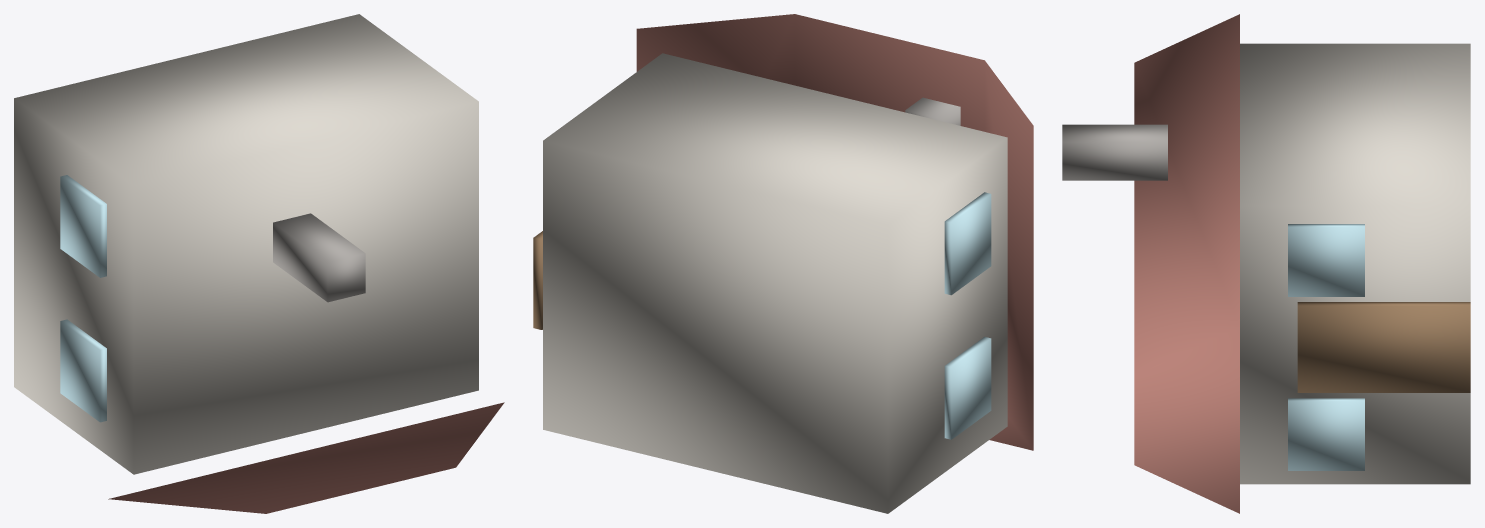
The model's file is house.glb.
3 views of the same model, side by side, from view 1: azimuth 30°, elevation 25°; view 2: azimuth 150°, elevation 25°; view 3: azimuth 270°, elevation 25° (orthographic). The views are drawn at different scales.
Parts seen in each view (by area): view 1: walls, roof, chimney, window_4, window_3; view 2: walls, roof, window_4, window_3, chimney, door; view 3: walls, roof, door, chimney, window_2, window_1.
Part boxes in pixels (x1,y1,x2,y2): walls: (14,14,478,474); roof: (108,402,504,513); chimney: (273,213,365,302); window_4: (60,319,106,422); window_3: (60,175,106,277); walls: (543,53,1007,513); roof: (636,14,1033,450); window_4: (944,336,991,439); window_3: (944,192,991,295); chimney: (905,97,960,125); door: (533,231,542,329); walls: (1240,43,1470,484); roof: (1134,14,1239,513); door: (1297,302,1470,392); chimney: (1062,124,1167,180); window_2: (1288,398,1364,470); window_1: (1288,224,1364,296).
Bounding box in the file's own units: 2.3 × 1.8 × 2.12.
